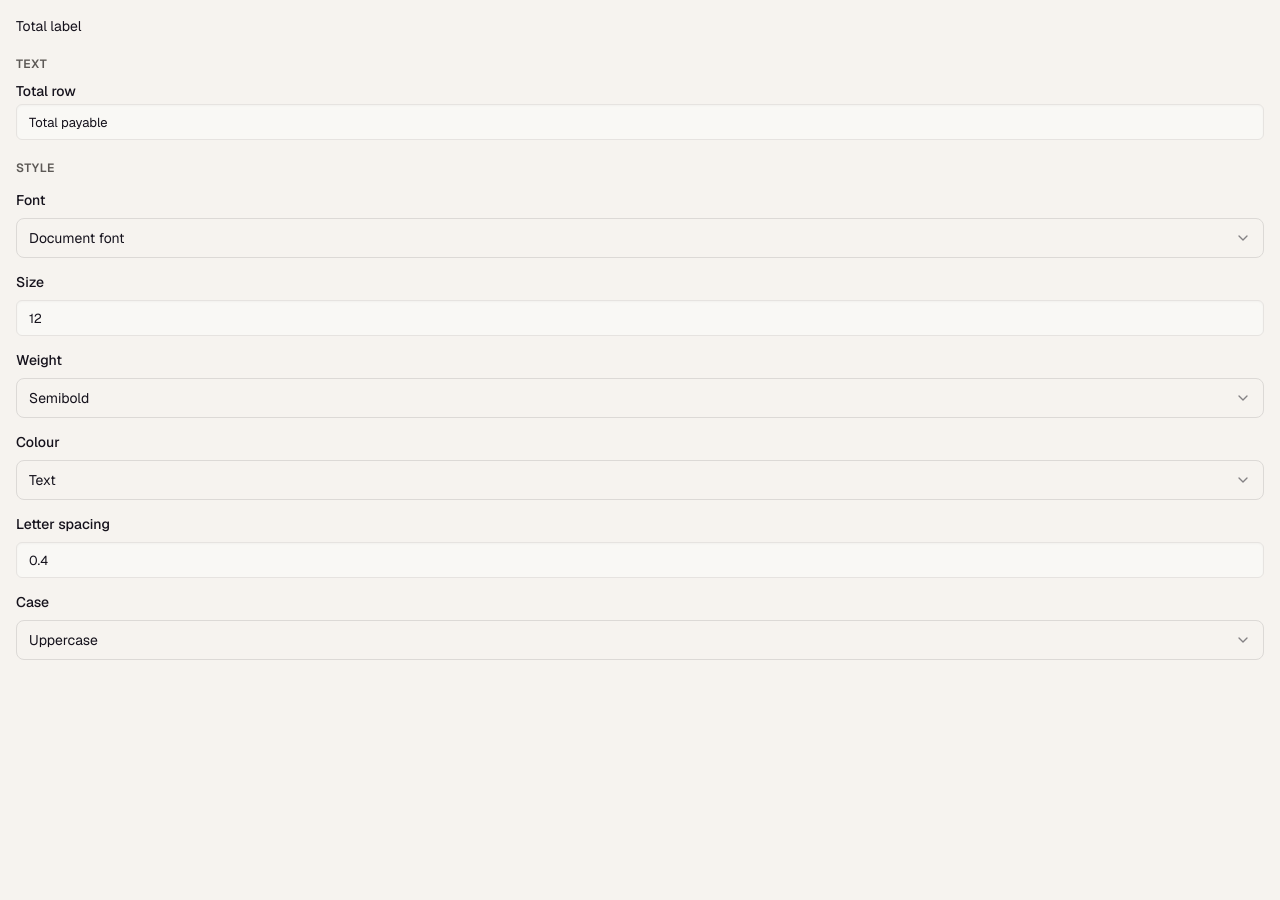
TemplateInspector › only offers selectable fonts (plus 'Document font') for a role's font override
Click the dropdown labelled "font": (77, 238) x1=16 y1=218 x2=1264 y2=258
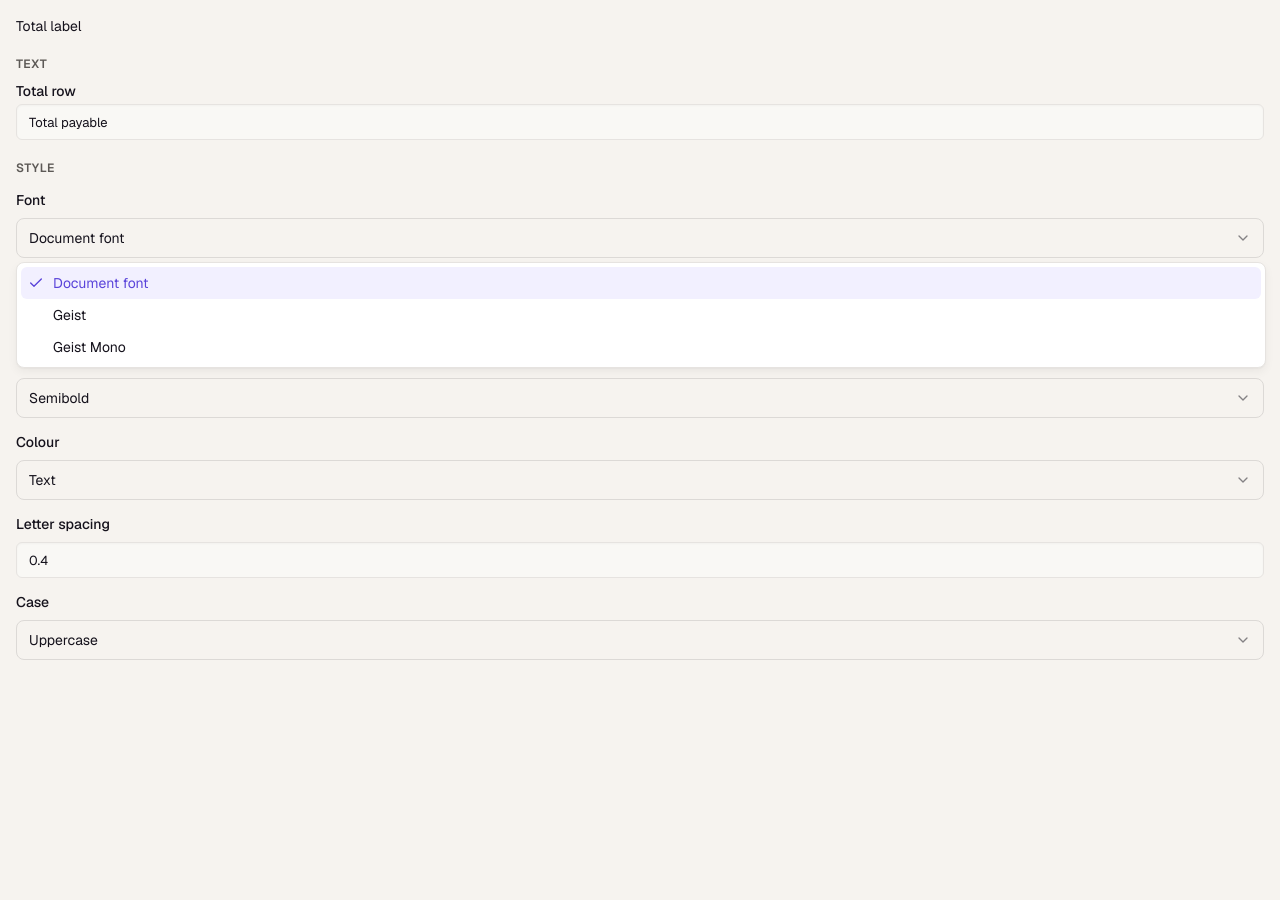
Now the options read "Document font", "Geist", "Geist Mono", in this order, box x1=21 y1=267 x2=1261 y2=299; x1=53 y1=306 x2=86 y2=324; x1=53 y1=338 x2=126 y2=356
